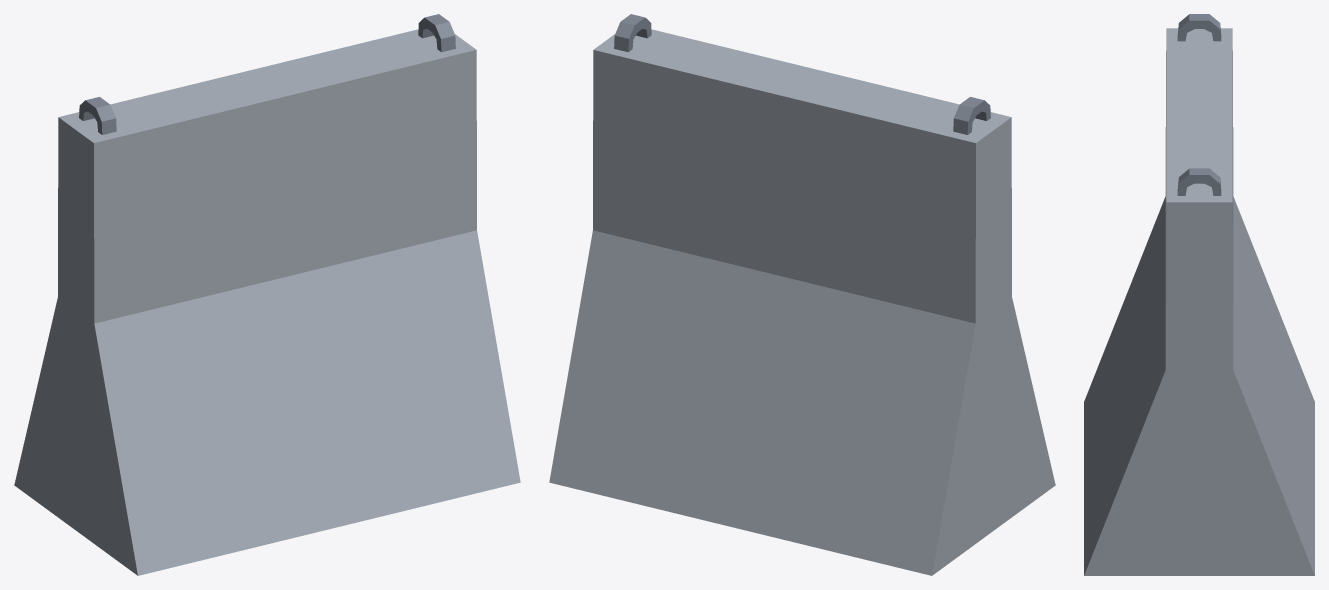
Rendered from Road_Block_005.glb.
The picture shows the model from 3 angles, left to right: view 1: azimuth 30°, elevation 25°; view 2: azimuth 150°, elevation 25°; view 3: azimuth 270°, elevation 25°; orthographic projection. The views are drawn at different scales.
Parts seen in each view (by area): view 1: Road Block.005; view 2: Road Block.005; view 3: Road Block.005.
Boxes of the visible parts, box(x1,y1,x2,y2) form: Road Block.005: box(14, 14, 520, 575); Road Block.005: box(549, 14, 1055, 575); Road Block.005: box(1084, 14, 1314, 575).
Size of the model in its own units: 4.8 by 5.07 by 2.69.
Materials: 1 (1 with a texture image).
